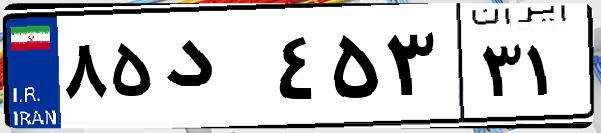1: (525, 38, 570, 115)
3: (385, 28, 445, 110), (475, 38, 525, 113)
4: (270, 28, 330, 110)
5: (330, 28, 385, 110), (110, 28, 158, 98)
8: (57, 26, 110, 100)
د: (158, 20, 270, 120)
